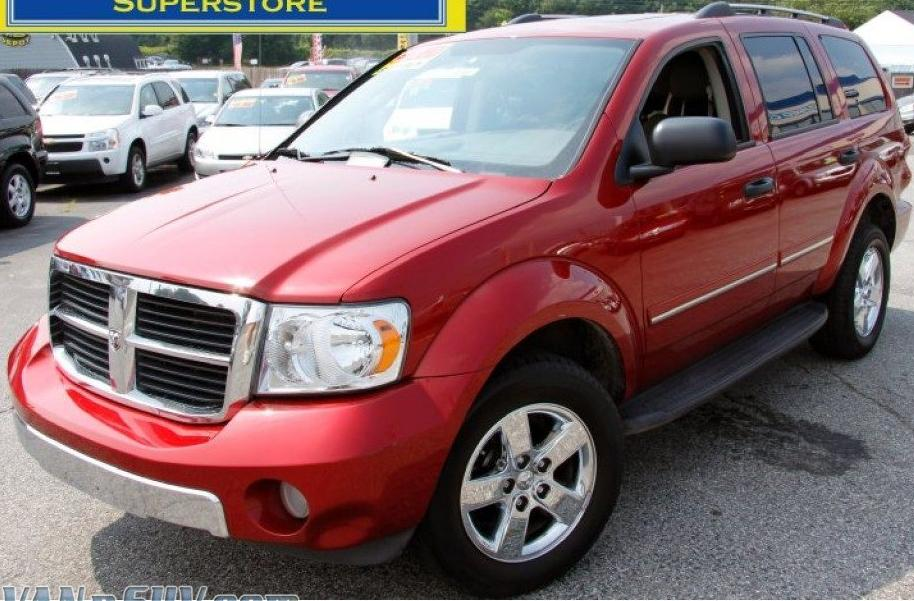front_view: (18, 231, 460, 562)
headlight: (243, 279, 417, 419)
side_glass: (638, 23, 829, 156)
